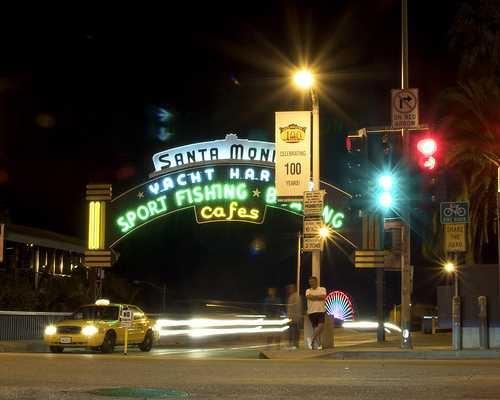red: (415, 136, 438, 157), (417, 154, 439, 174)
